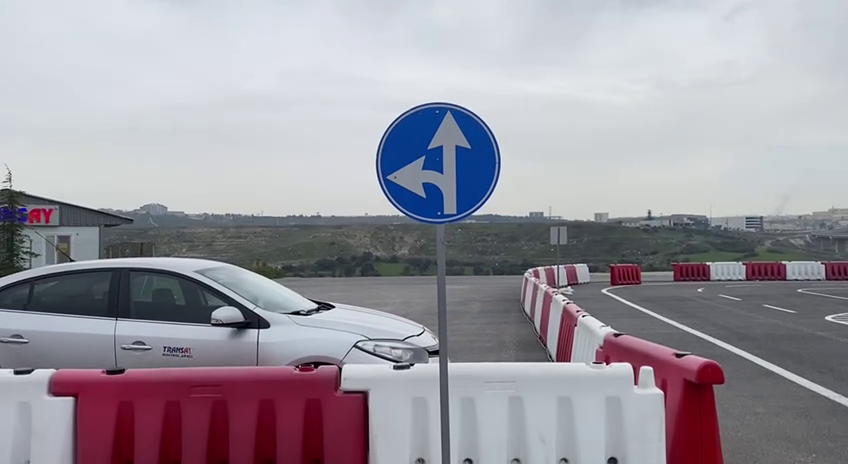forwardAndLeft: (374, 100, 503, 227)
